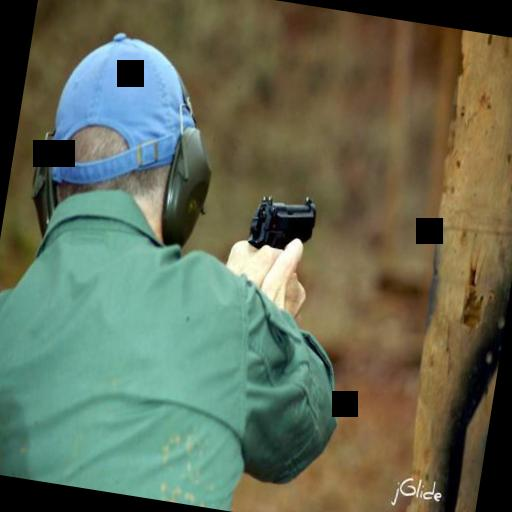Handgun: (244, 188, 320, 264)
